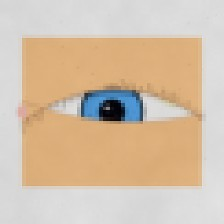pinguecula_lesion: (148, 88, 186, 119)
